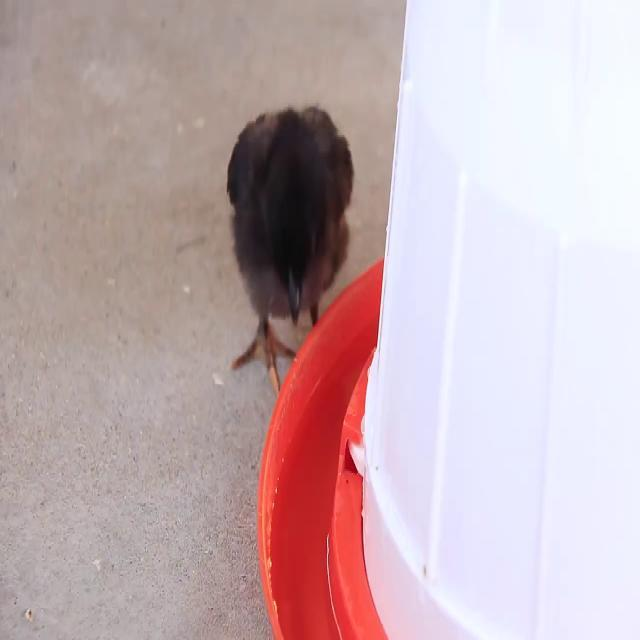poussin: (220, 99, 362, 390)
